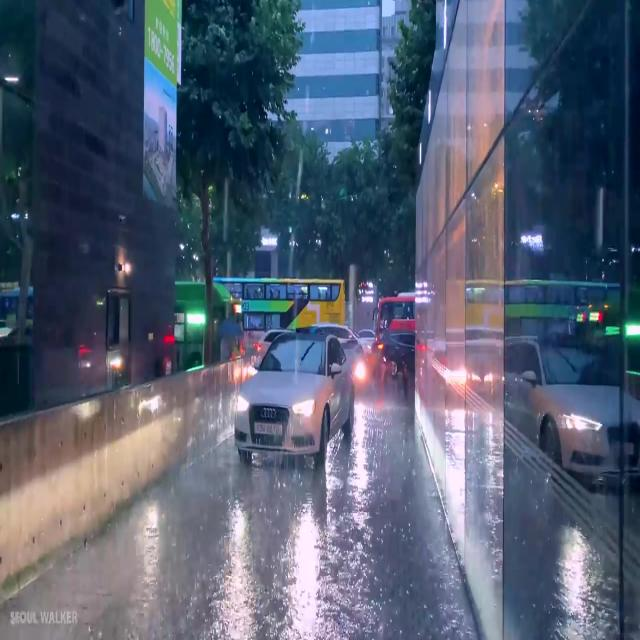Car: (236, 333, 353, 468)
